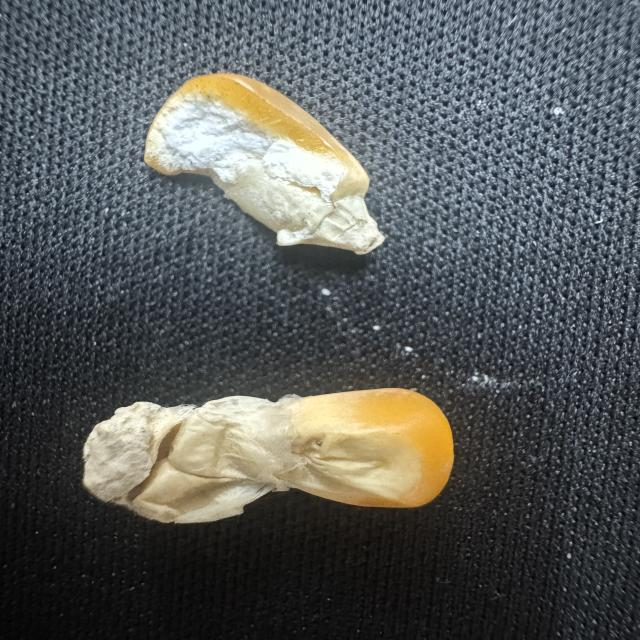Bad-Seed: (76, 382, 468, 529), (139, 68, 395, 263)
